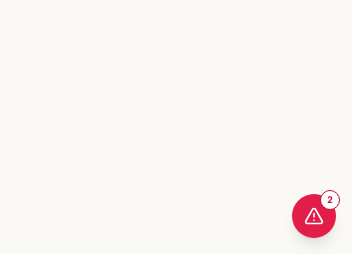
Scenario: acknowledging › clears the lot in one go
This screenshot has width=352, height=254.
What coordinates should you click on to do the following:
click the button titled "Feature alerts"
I would click on:
 (314, 216)
Its box is [292,194,336,238].
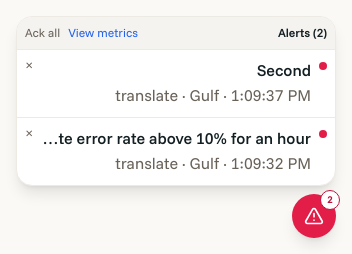
What coordinates should you click on to do the following:
click the button "Ack all"
I would click on:
 (43, 33)
Its box is [25,25,60,41].
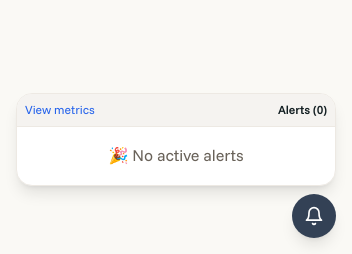
Now the text "No active alerts 🎉" is shown, box [108,145,244,165]
